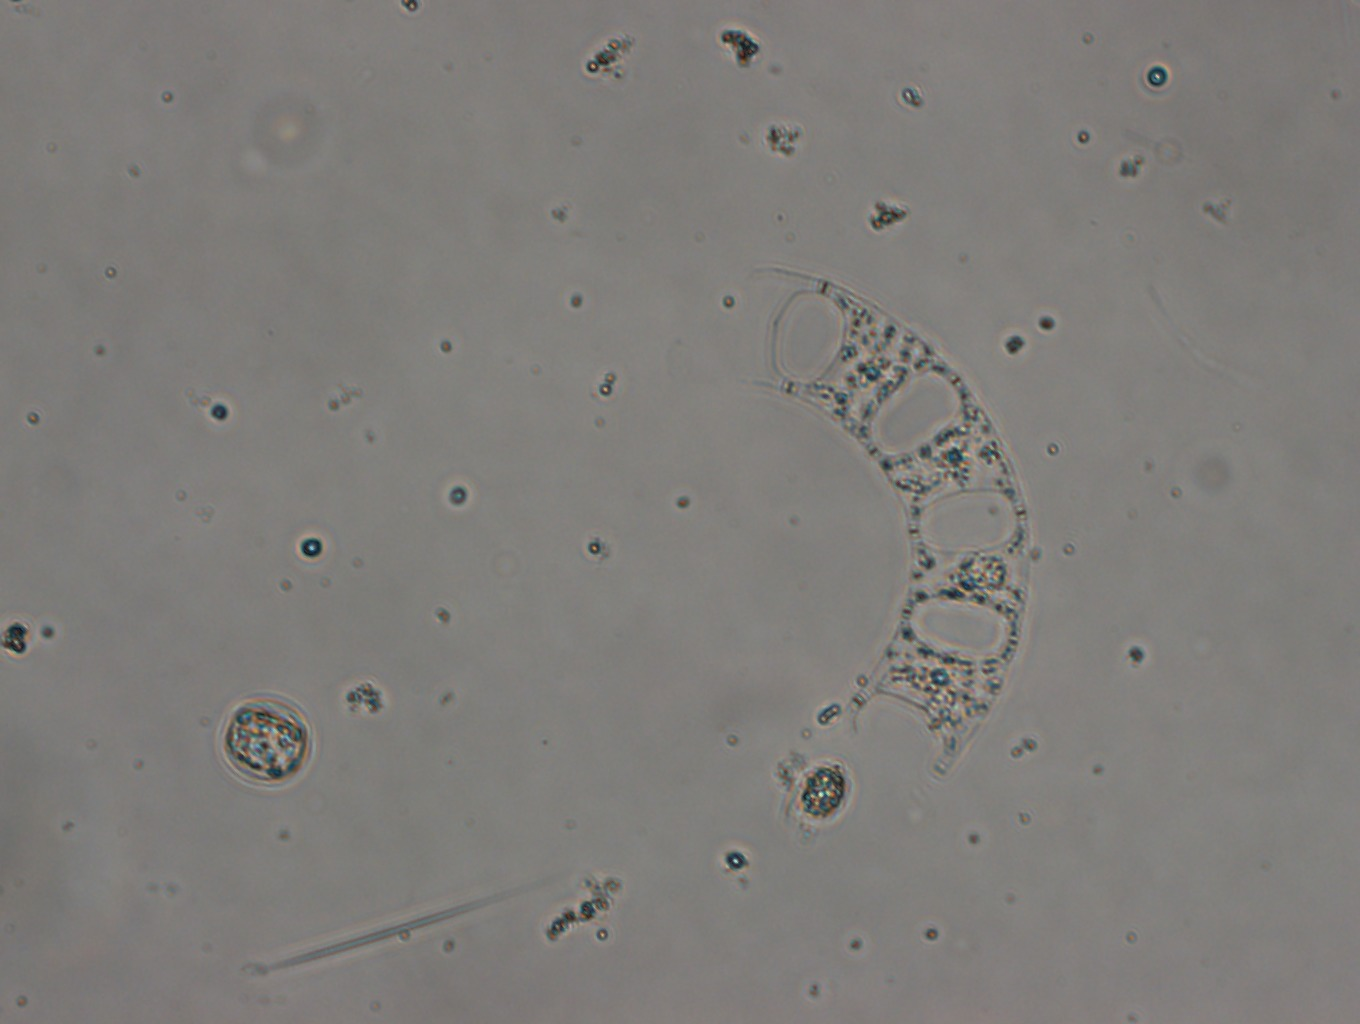eucampia: (729, 262, 1032, 785)
